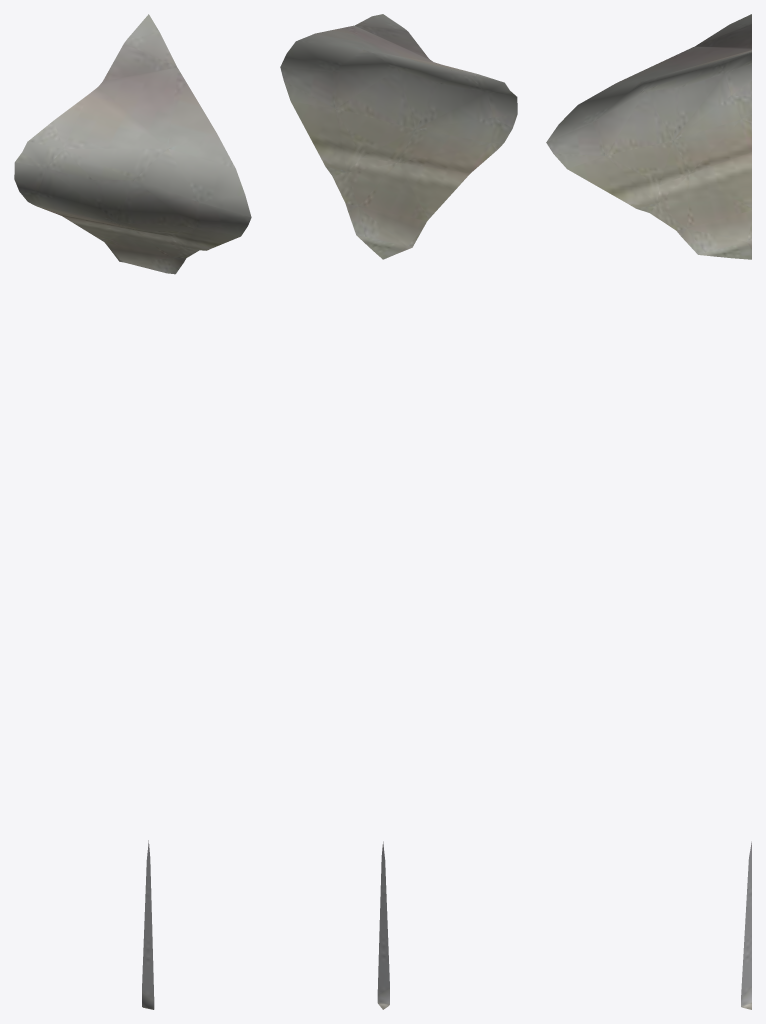
3 renders of one model, left to right at view 1: azimuth 30°, elevation 25°; view 2: azimuth 210°, elevation 25°; view 3: azimuth 270°, elevation 25°, orthographic.
Bounding box in the file's own units: 0.3502 × 2.48 × 0.4636.
1 material, 1 textured.
